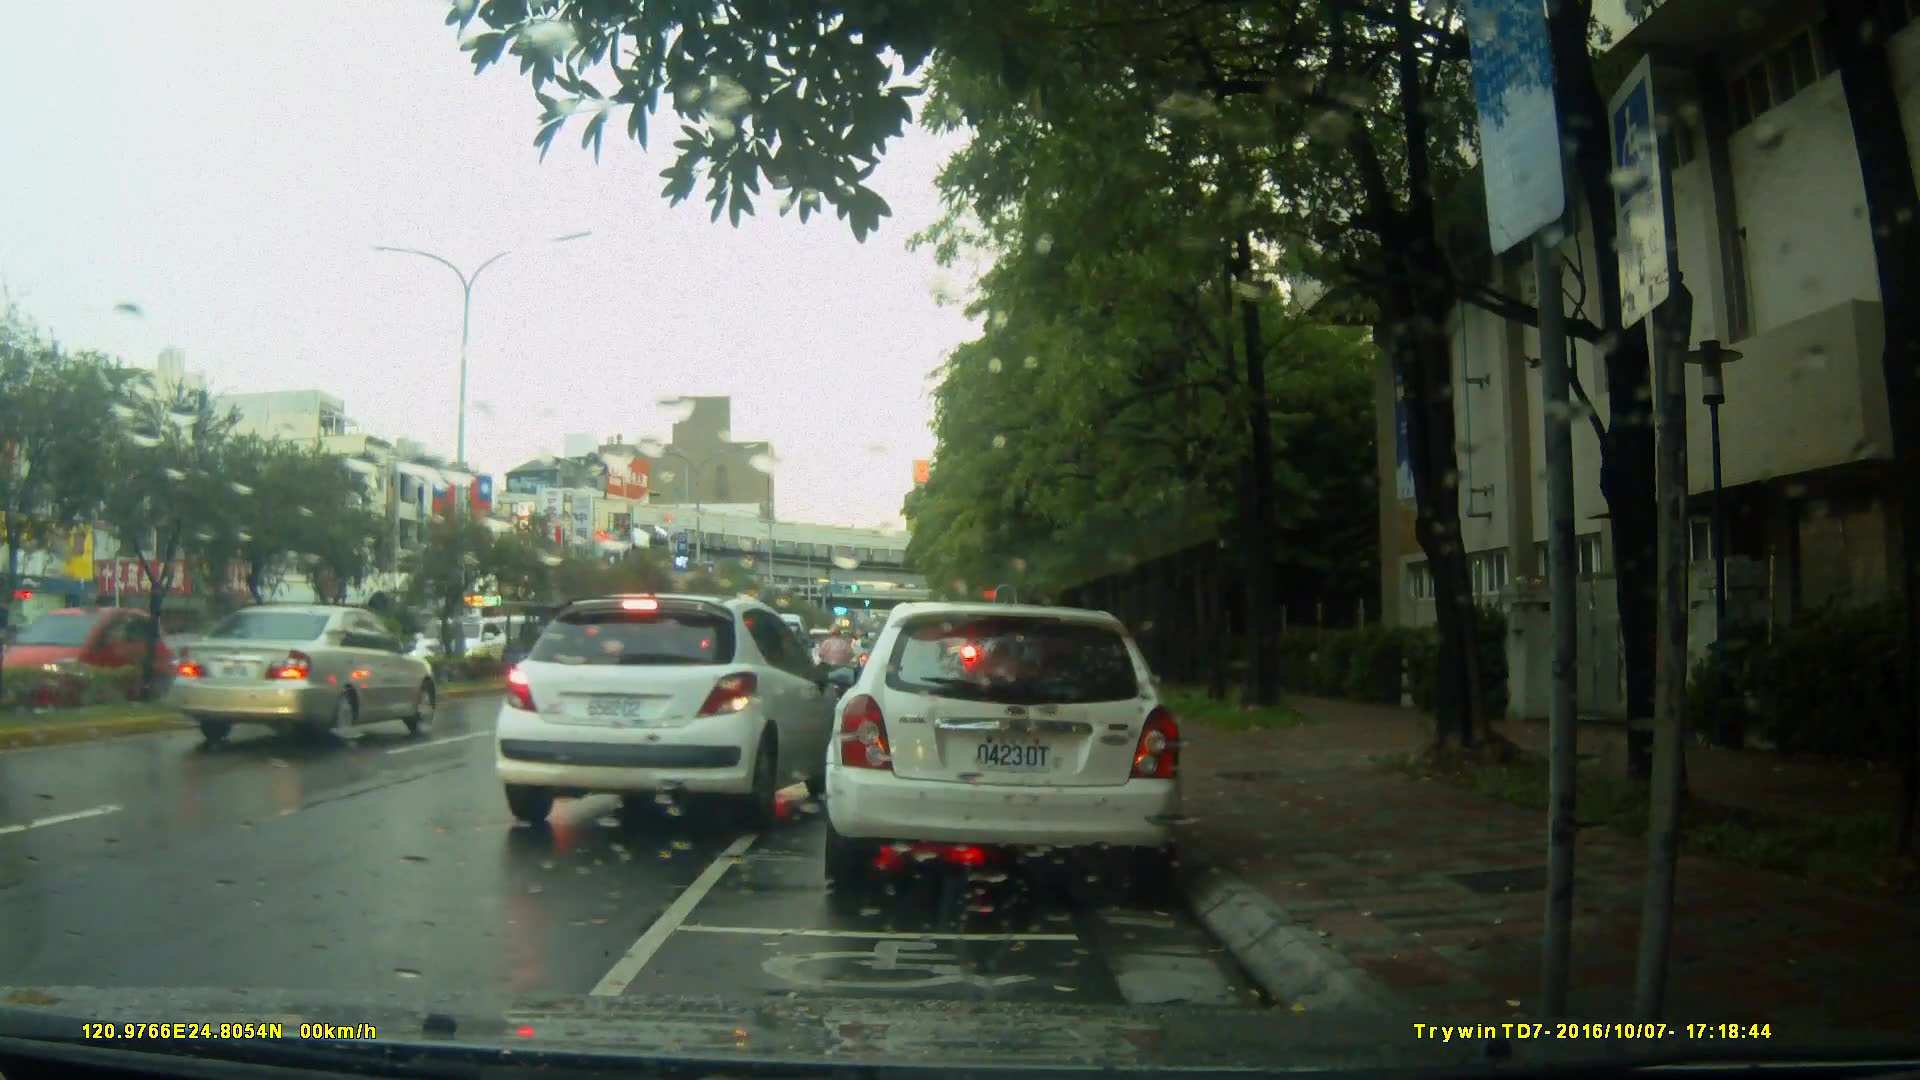rider: (818, 617, 851, 709)
vehicle: (820, 602, 1188, 898), (491, 590, 856, 834), (170, 602, 442, 749), (1, 604, 182, 722)
